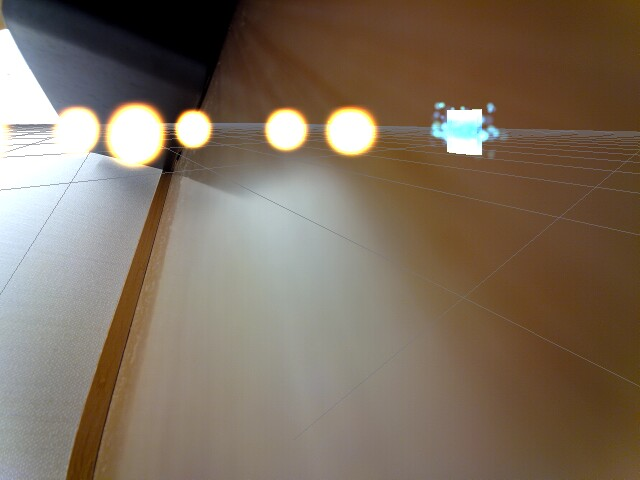firebig: (100, 99, 168, 177)
